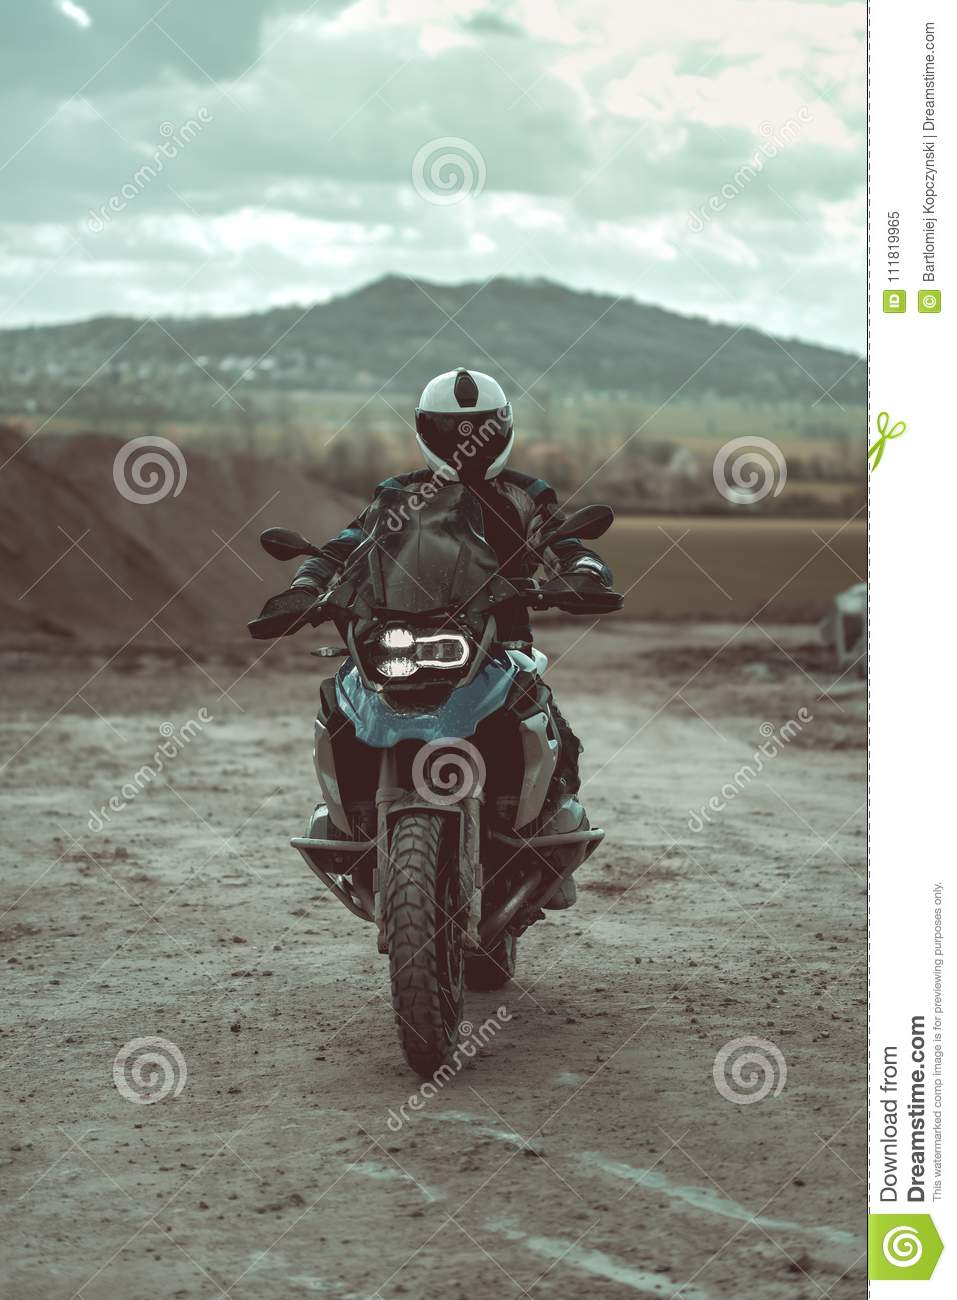helmet: (418, 380, 524, 489)
